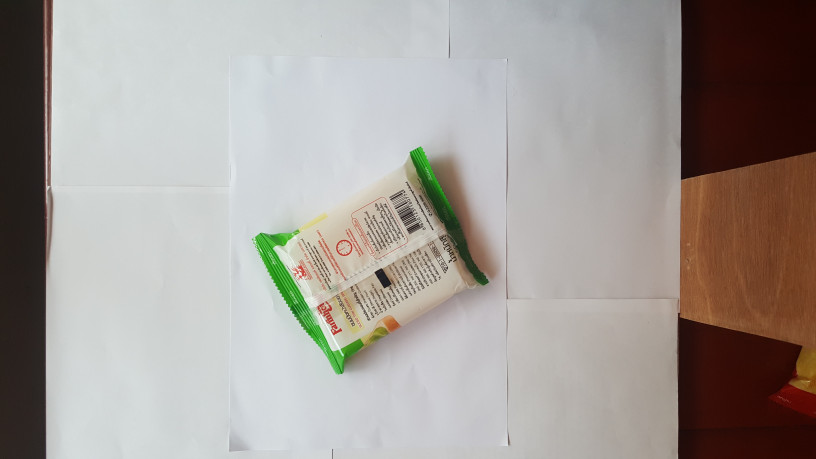farmhouse-bread-pandan: (251, 148, 499, 371)
